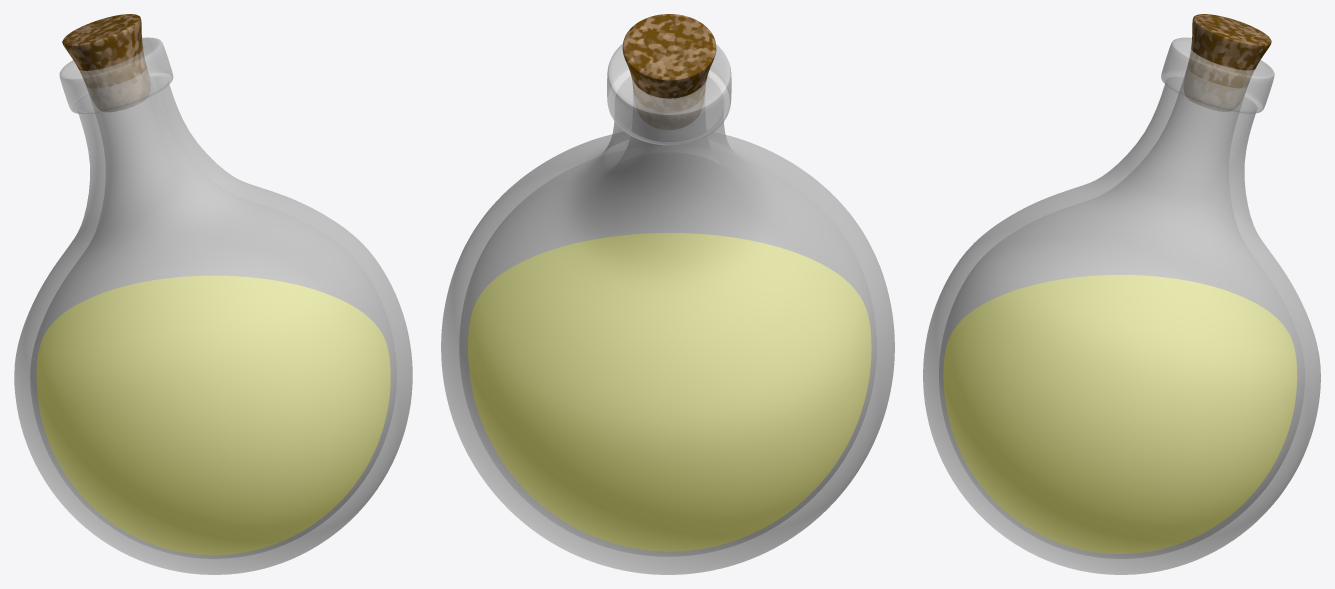
The model's file is explosion.fbx.
3 views of the same model, side by side, from view 1: azimuth 30°, elevation 25°; view 2: azimuth 150°, elevation 25°; view 3: azimuth 270°, elevation 25° (orthographic). The views are drawn at different scales.
Parts seen in each view (by area): view 1: bottle; view 2: bottle; view 3: bottle.
Part boxes in pixels (box(x1,y1,x2,y2)): bottle: box(14, 14, 412, 574); bottle: box(441, 14, 894, 574); bottle: box(923, 14, 1320, 574).
Size of the model in its own units: 169 by 240 by 169.
3 materials, 1 textured.
